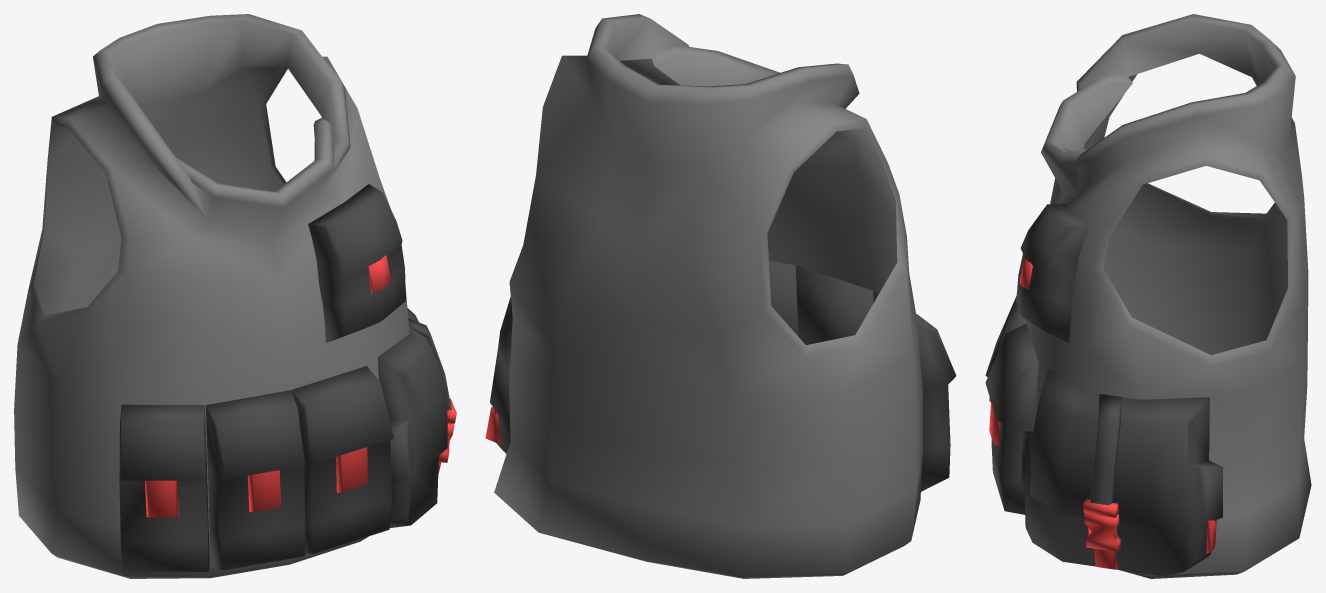
The model's file is coat_NonRigged.fbx.
3 views of the same model, side by side, from view 1: azimuth 30°, elevation 25°; view 2: azimuth 150°, elevation 25°; view 3: azimuth 270°, elevation 25° (orthographic). The views are drawn at different scales.
Parts seen in each view (by area): view 1: coat_NonRigged; view 2: coat_NonRigged; view 3: coat_NonRigged.
Part boxes in pixels (x1,y1,x2,y2): coat_NonRigged: (14,14,456,578); coat_NonRigged: (485,14,956,578); coat_NonRigged: (985,14,1311,578).
Bounding box in the file's own units: 88.15 × 99.44 × 67.46.
